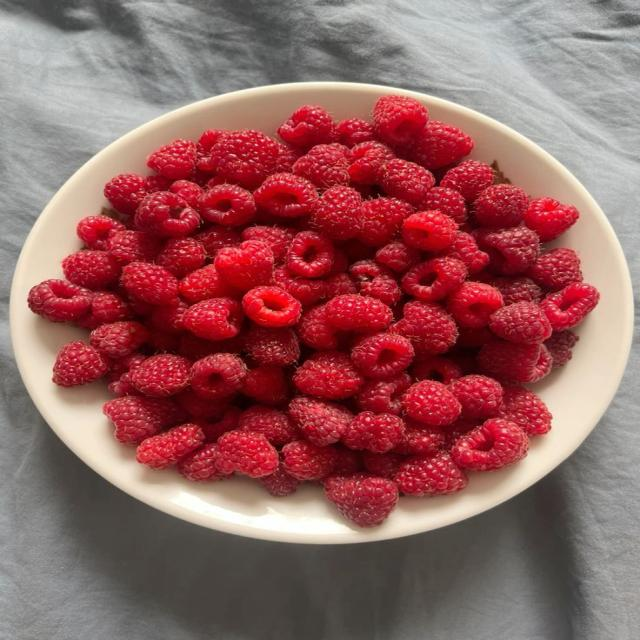raspberry: (209, 130, 278, 189), (452, 419, 528, 471), (327, 477, 398, 527), (390, 302, 457, 354), (103, 396, 173, 444), (294, 351, 364, 399), (288, 397, 353, 446), (395, 451, 467, 495), (478, 340, 552, 382), (410, 121, 473, 170), (136, 424, 204, 469), (474, 228, 539, 275), (214, 241, 273, 291), (217, 430, 279, 477), (134, 192, 200, 236), (254, 173, 318, 217), (311, 186, 363, 240), (540, 283, 599, 330), (27, 280, 93, 322), (402, 258, 466, 301), (352, 333, 413, 378), (374, 95, 428, 145), (497, 386, 552, 435), (359, 198, 413, 246), (489, 302, 552, 343), (278, 105, 338, 148), (183, 297, 243, 340), (378, 159, 434, 205), (403, 381, 460, 426), (131, 354, 190, 397), (191, 353, 246, 399), (448, 282, 503, 328), (325, 295, 393, 332), (121, 261, 178, 305), (238, 405, 299, 446), (342, 412, 404, 452), (53, 341, 108, 386), (293, 145, 349, 189), (524, 198, 579, 242), (242, 286, 301, 327), (198, 184, 255, 226), (350, 261, 402, 306), (474, 184, 528, 227), (527, 248, 582, 290), (449, 375, 502, 418), (440, 160, 494, 202), (244, 325, 299, 366), (62, 250, 119, 289), (286, 231, 333, 278), (356, 374, 411, 414), (402, 211, 457, 251), (90, 321, 148, 358), (77, 291, 133, 329), (282, 441, 336, 480), (347, 141, 394, 185), (241, 226, 295, 264), (274, 267, 326, 306), (147, 139, 195, 180), (443, 231, 489, 273), (240, 365, 288, 405), (157, 238, 206, 277), (178, 443, 227, 482), (178, 332, 243, 360), (180, 265, 229, 302), (298, 305, 339, 349), (394, 419, 444, 455), (107, 230, 161, 262), (104, 174, 148, 213), (77, 215, 125, 250), (420, 187, 466, 223), (175, 390, 229, 420), (487, 277, 541, 305), (199, 406, 241, 442), (194, 226, 239, 259), (375, 241, 420, 273), (412, 356, 462, 384), (321, 472, 372, 499), (196, 130, 228, 171), (258, 466, 300, 497), (545, 330, 579, 368), (362, 451, 404, 479), (443, 419, 479, 451), (107, 353, 146, 382), (118, 284, 153, 316), (337, 119, 375, 148), (349, 260, 391, 285), (170, 180, 203, 209), (333, 444, 362, 475), (457, 327, 497, 349), (340, 238, 375, 262), (326, 273, 358, 298), (147, 328, 179, 352), (276, 143, 302, 172), (108, 372, 139, 396), (146, 175, 173, 193)
